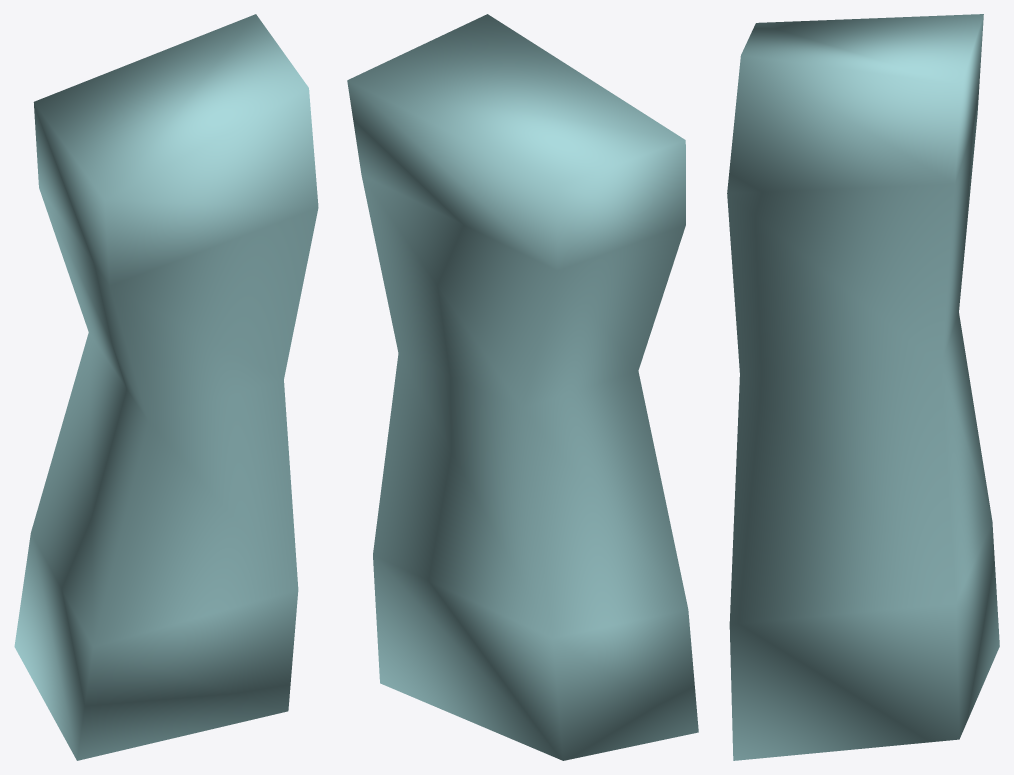
Rendered from Skelly_thumb.02.R.fbx.
3 renders of one model, left to right at view 1: azimuth 30°, elevation 25°; view 2: azimuth 150°, elevation 25°; view 3: azimuth 270°, elevation 25°, orthographic. The views are drawn at different scales.
Visible parts, largest first — view 1: Skelly_thumb.02.R; view 2: Skelly_thumb.02.R; view 3: Skelly_thumb.02.R.
Boxes of the visible parts, x1,y1,x2,y2 form: Skelly_thumb.02.R: [14, 14, 318, 760]; Skelly_thumb.02.R: [347, 14, 698, 760]; Skelly_thumb.02.R: [727, 14, 999, 760].
Bounding box in the file's own units: 1.52 × 3.53 × 1.18.
